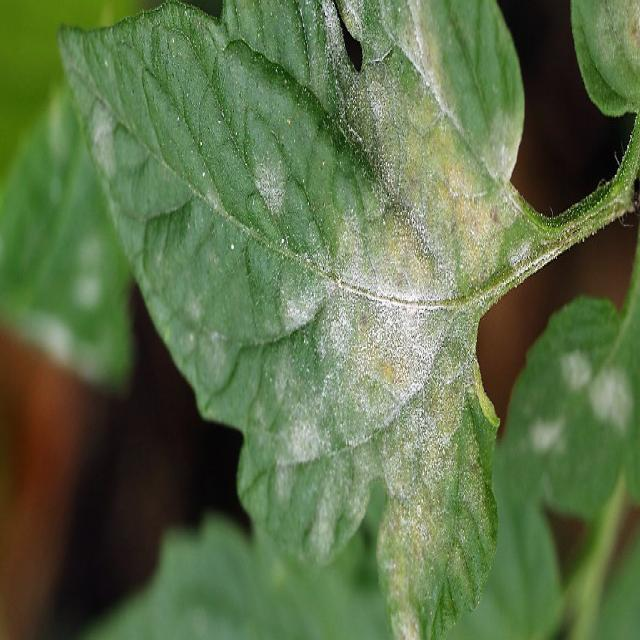Powdery Mildew: (55, 0, 638, 636)
